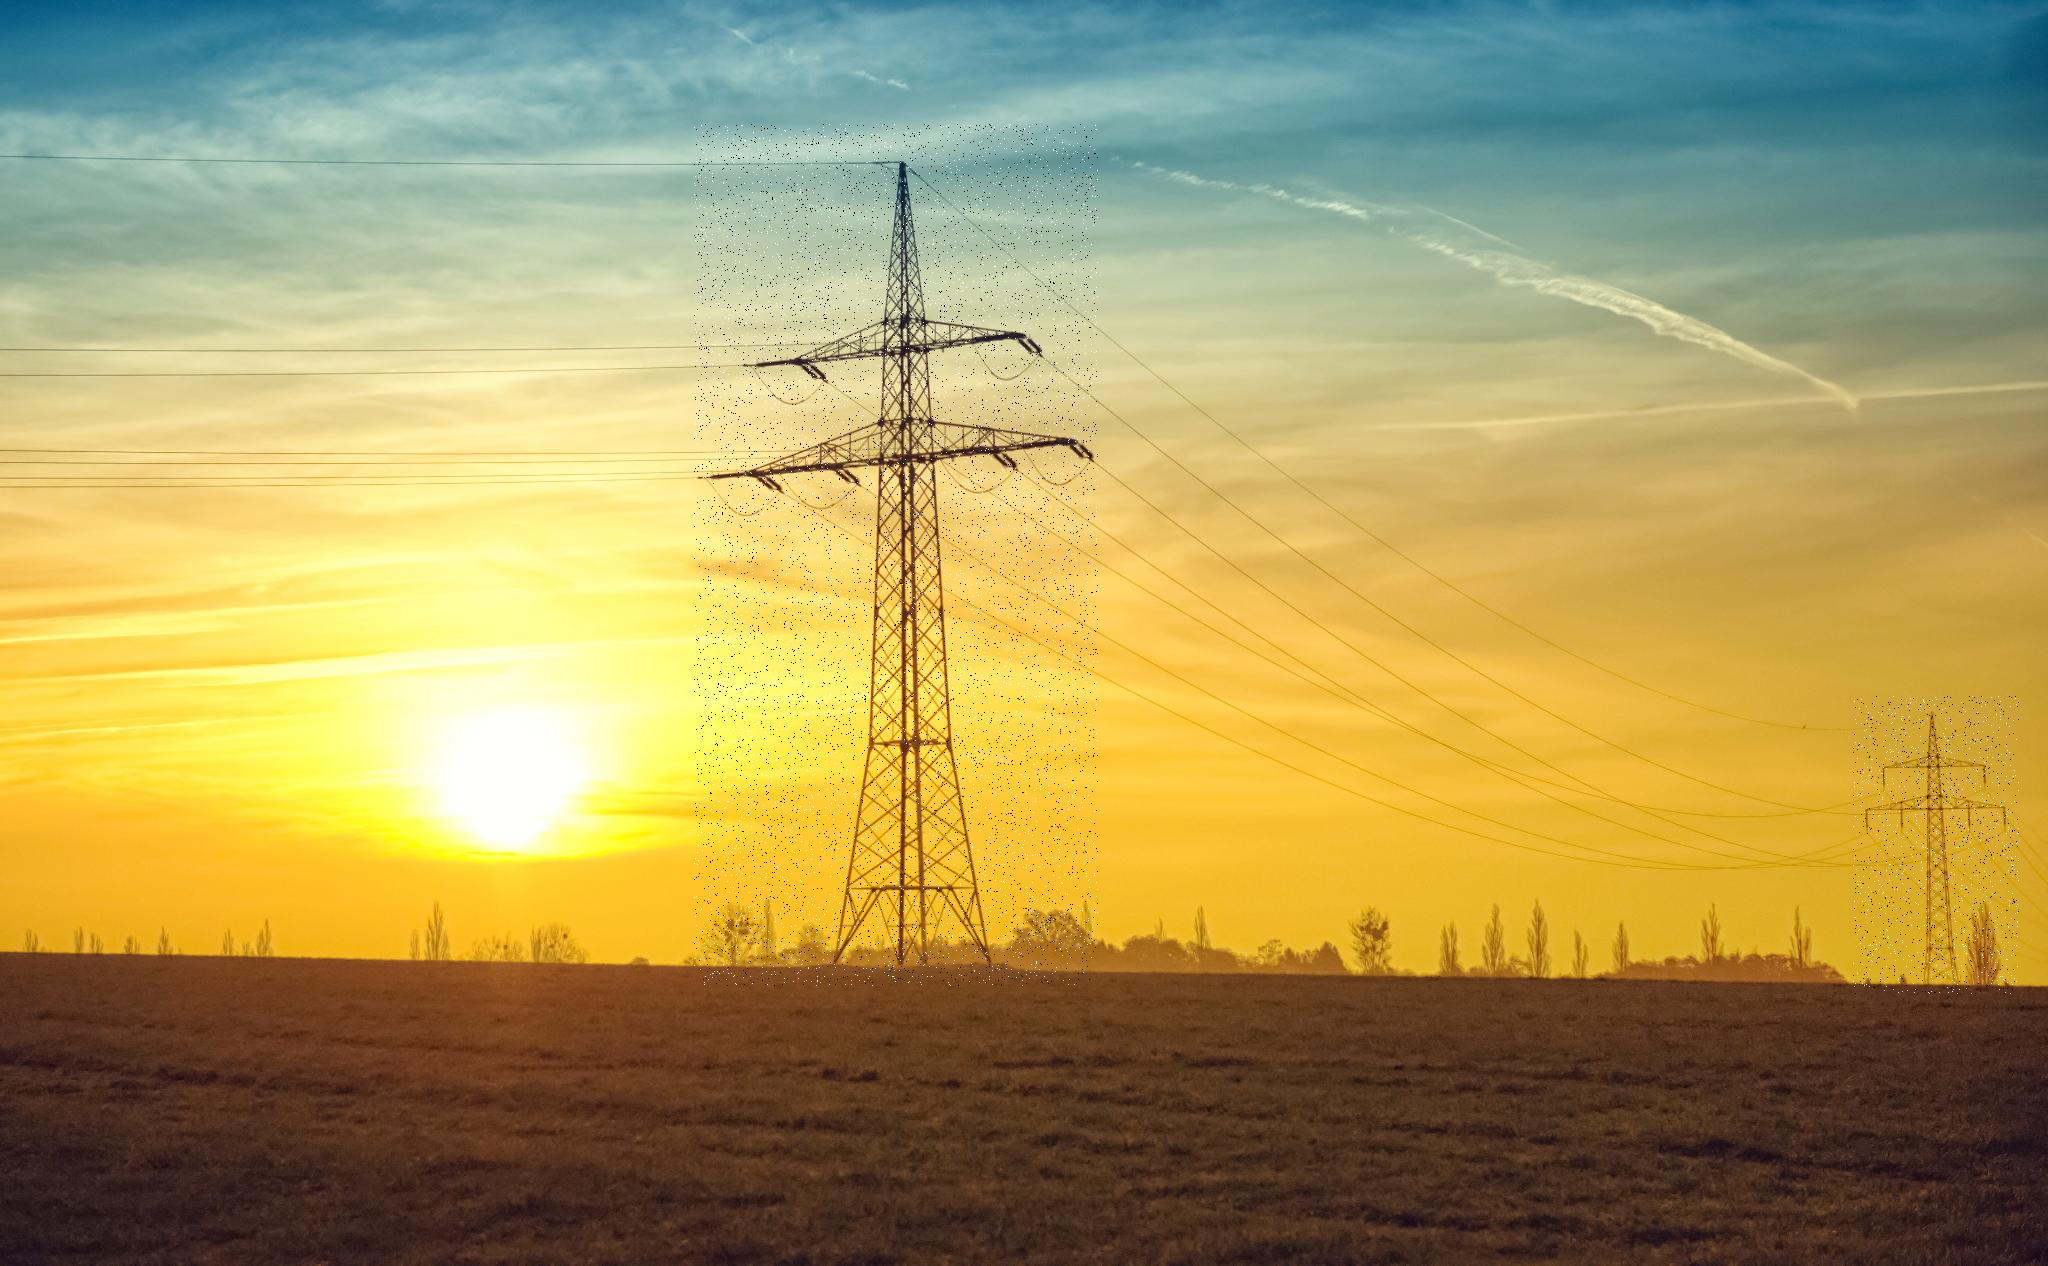cable tower: (693, 124, 1099, 986), (1853, 695, 2019, 994)
